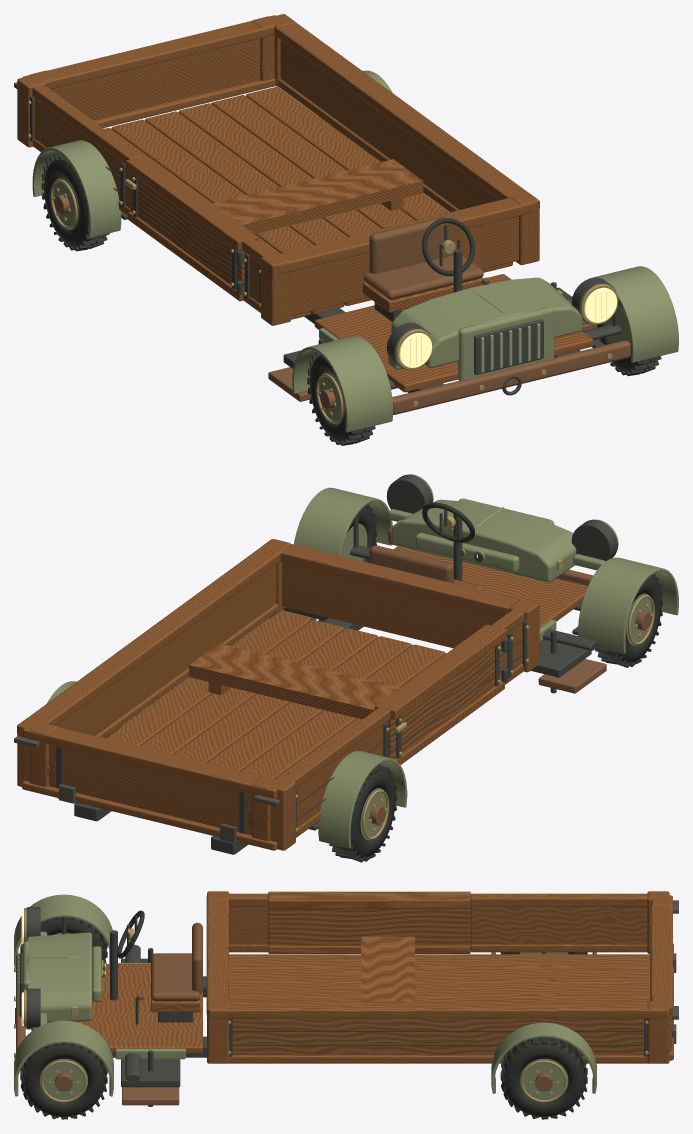
Rendered from zombie-crew-cart.glb.
3 renders of one model, top to bottom at view 1: azimuth 30°, elevation 25°; view 2: azimuth 150°, elevation 25°; view 3: azimuth 270°, elevation 25°, orthographic. The views are drawn at different scales.
Parts seen in each view (by area): view 1: rear_gate_panel, side_panel_1, giant_bench, farm_low_bonnet, side_top_rail_1, cargo_front_partition, farm_fender_FR, farm_fender_FL, rear_floor_plank_02, rear_floor_plank_06, rear_floor_plank_04, rear_floor_plank_03 (+28 smaller); view 2: cargo_front_partition, rear_gate_panel, side_panel_1, giant_bench, farm_low_bonnet, side_top_rail_1, farm_fender_FR, partition_top_cap, rear_gate_top_rail, rear_floor_plank_04, rear_floor_plank_03, rear_floor_plank_02 (+31 smaller); view 3: side_panel_1, side_top_rail_1, side_panel_-1_boarding_gate, side_panel_-1_bay_0, driver_floor, rear_floor_plank_00, rear_floor_plank_01, rear_floor_plank_02, farm_low_bonnet, side_top_rail_-1_boarding_gate, giant_bench, rubber_tyre_BL (+39 smaller).
Part boxes in pixels (x1,y1,x2,y2): rear_gate_panel: (57,38,260,120); side_panel_1: (280,40,499,209); giant_bench: (212,159,423,233); farm_low_bonnet: (391,277,582,368); side_top_rail_1: (274,22,539,208); cargo_front_partition: (291,216,518,315); farm_fender_FR: (292,336,392,432); farm_fender_FL: (593,266,678,362); rear_floor_plank_02: (111,119,371,305); rear_floor_plank_06: (246,87,512,272); rear_floor_plank_04: (178,103,381,236); rear_floor_plank_03: (145,111,347,245); cargo_front_partition: (282,562,503,648); rear_gate_panel: (49,744,251,835); side_panel_1: (56,565,276,735); giant_bench: (189,643,399,719); farm_low_bonnet: (391,499,576,582); side_top_rail_1: (17,547,280,733); farm_fender_FR: (578,557,678,653); partition_top_cap: (280,544,519,615); rear_gate_top_rail: (22,727,277,798); rear_floor_plank_04: (173,628,377,762); rear_floor_plank_03: (207,636,411,771); rear_floor_plank_02: (240,644,445,778); side_panel_1: (232,1018,643,1055); side_top_rail_1: (208,1001,668,1018); side_panel_-1_boarding_gate: (268,908,470,945); side_panel_-1_bay_0: (470,906,647,944); driver_floor: (47,964,202,1053); rear_floor_plank_00: (229,954,649,968); rear_floor_plank_01: (229,969,649,983); rear_floor_plank_02: (229,984,649,998); farm_low_bonnet: (26,932,92,1022); side_top_rail_-1_boarding_gate: (268,891,470,908); giant_bench: (361,936,414,1001); rubber_tyre_BL: (503,1037,584,1116).
Size of the model in its own units: 3.73 by 1.68 by 7.17.
11 materials, 1 textured.
